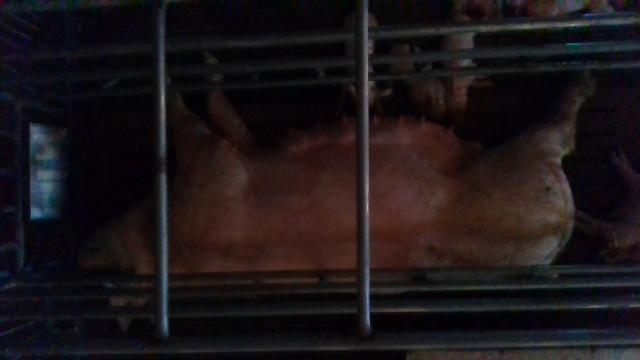piglet: (581, 142, 640, 260), (346, 7, 393, 112), (388, 41, 446, 120), (448, 13, 482, 123), (514, 0, 622, 21)
sow-sleep-lactate: (77, 49, 585, 335)
